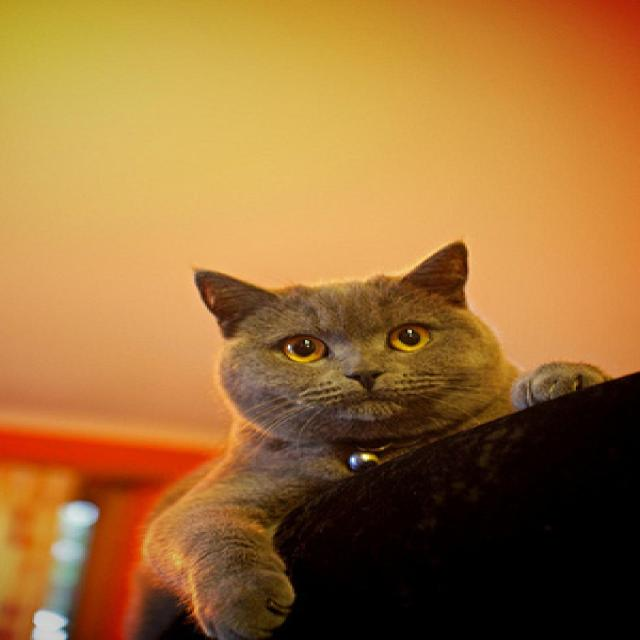British Shorthair: (121, 236, 614, 640)
